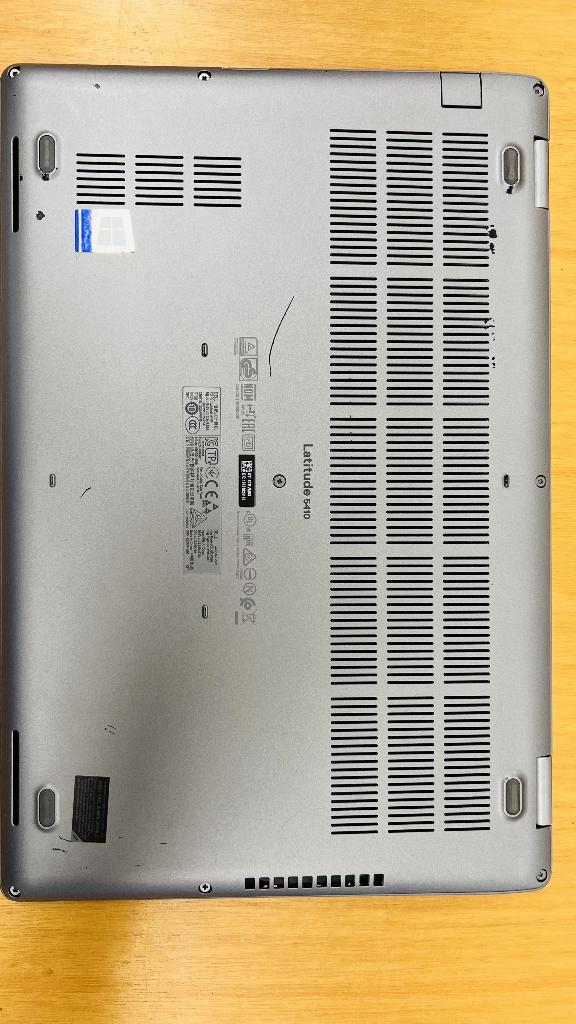scratch: (268, 296, 296, 376), (485, 224, 498, 238), (79, 486, 91, 499), (38, 169, 50, 181), (104, 724, 116, 736), (36, 210, 46, 220), (52, 848, 68, 854), (59, 836, 72, 842), (484, 317, 495, 324), (506, 186, 514, 195), (489, 243, 495, 254), (484, 325, 496, 330), (159, 842, 177, 844), (94, 84, 101, 89), (133, 864, 144, 867), (491, 363, 496, 369), (19, 174, 23, 181), (492, 337, 496, 341), (491, 331, 495, 335), (491, 357, 495, 360), (350, 431, 352, 434), (350, 415, 352, 418), (349, 377, 351, 380), (118, 837, 123, 838), (350, 401, 351, 403)
